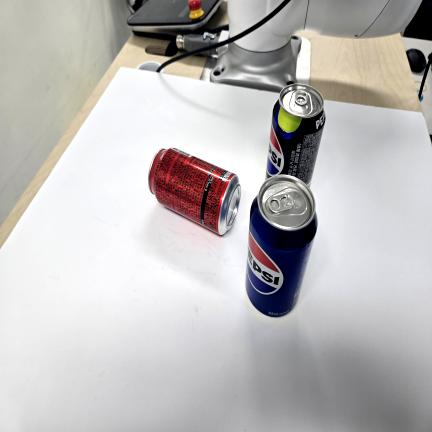can_coke_zero: (149, 148, 241, 235)
can_pepsi: (246, 175, 317, 317)
can_pepsi_zero: (266, 84, 325, 186)
